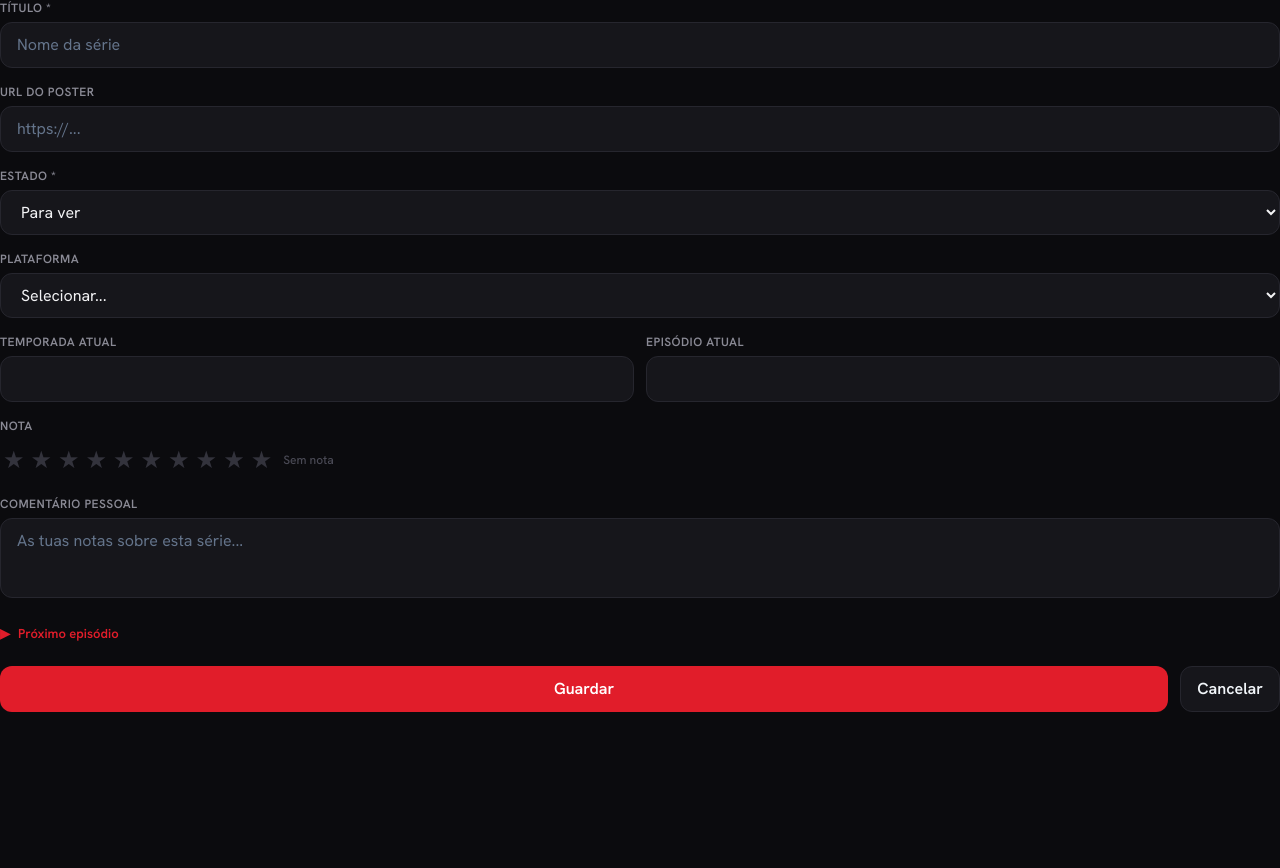
Test: SeriesForm › next episode section › toggles the next episode section when the button is clicked
This screenshot has width=1280, height=868.
Expected: the text "Data de estreia" is not shown
Click the button "▶ Próximo episódio". click: [68, 634]
box: [0,621,1279,646]
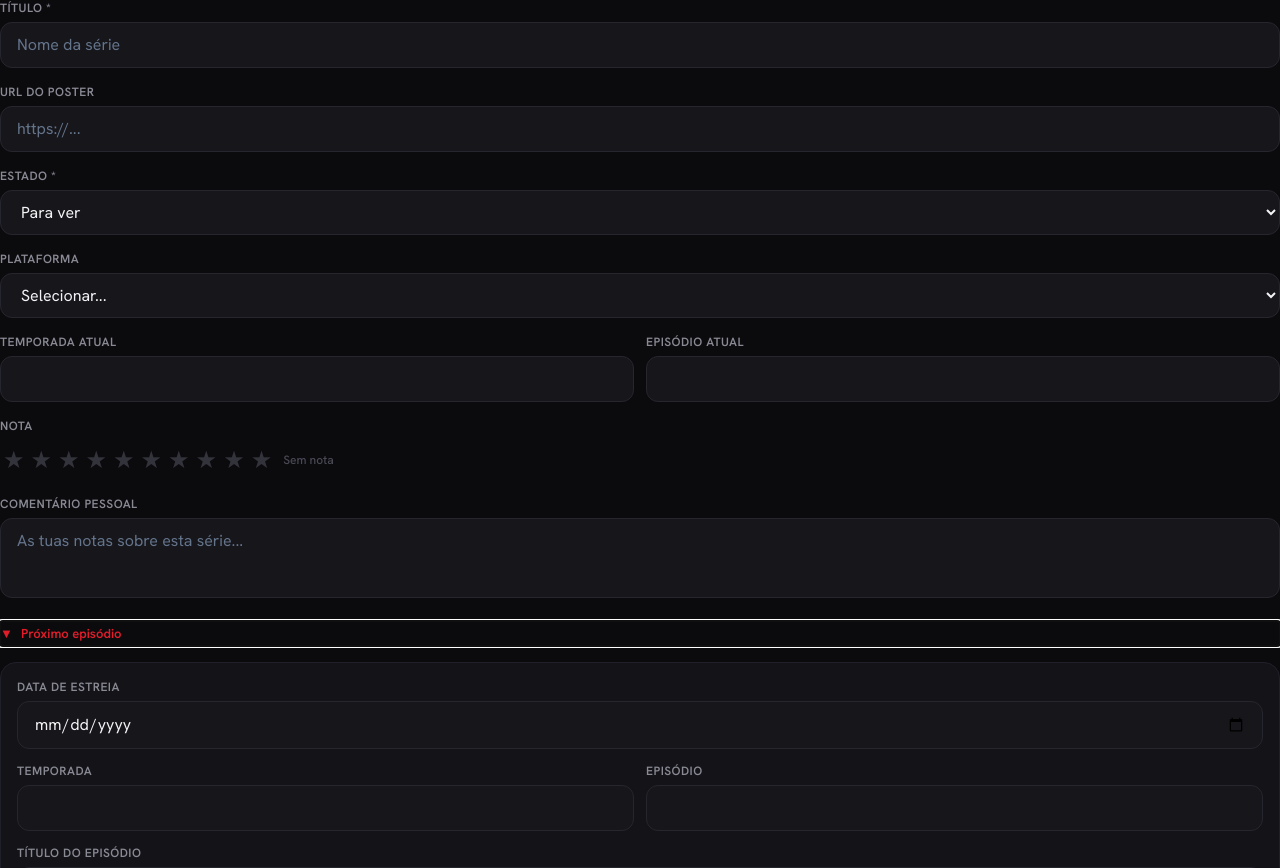
Expected: the text "Data de estreia" is shown, [17,679,120,695]
Click the button "▼ Próximo episódio". click: [71, 634]
box: [0,621,1279,646]
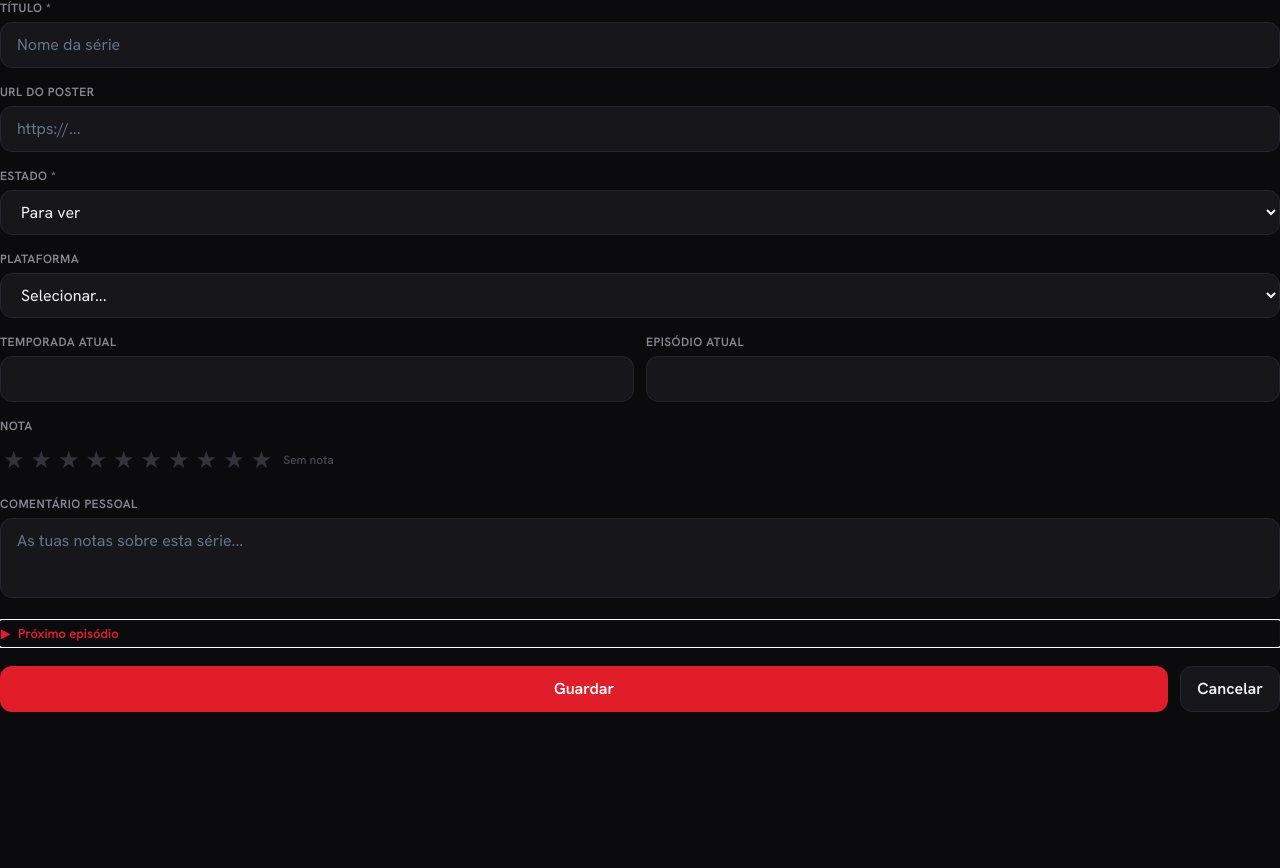
Expected: the text "Data de estreia" is gone
